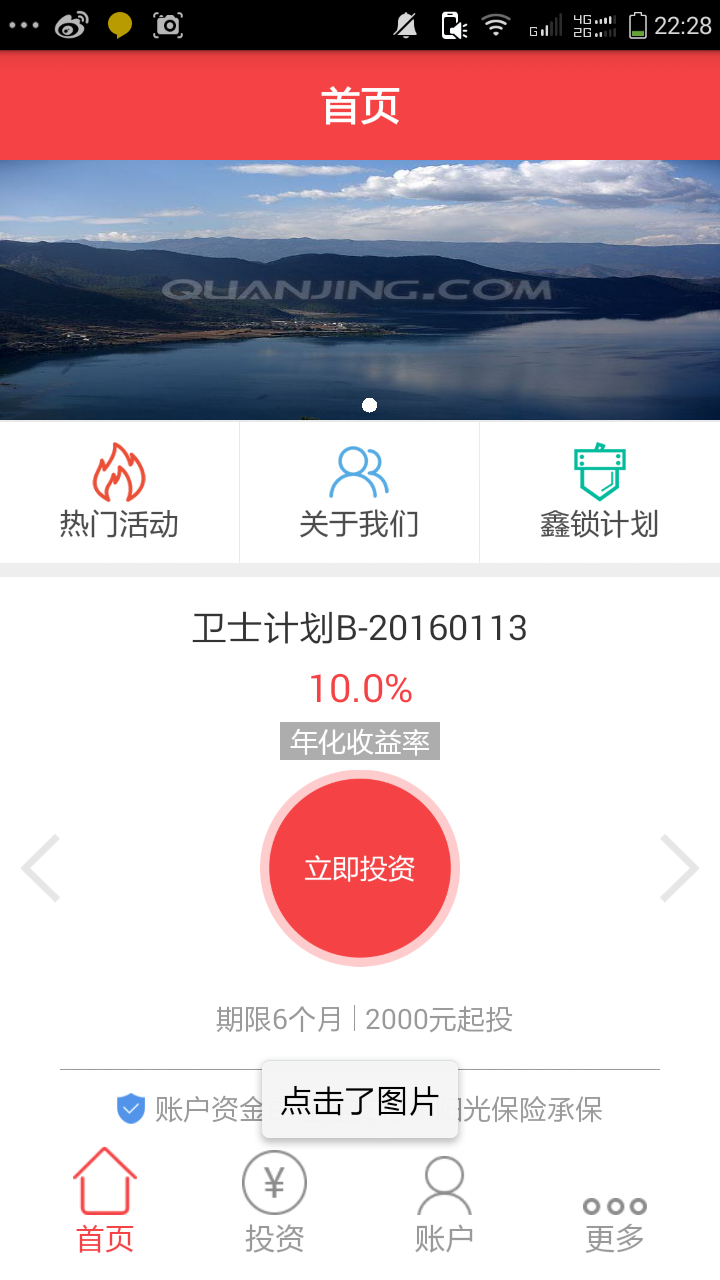alert: (259, 1057, 460, 1140)
imgbutton: (260, 768, 459, 963), (613, 802, 714, 921)
imgview: (1, 156, 720, 428)
nav: (13, 1141, 709, 1275)
